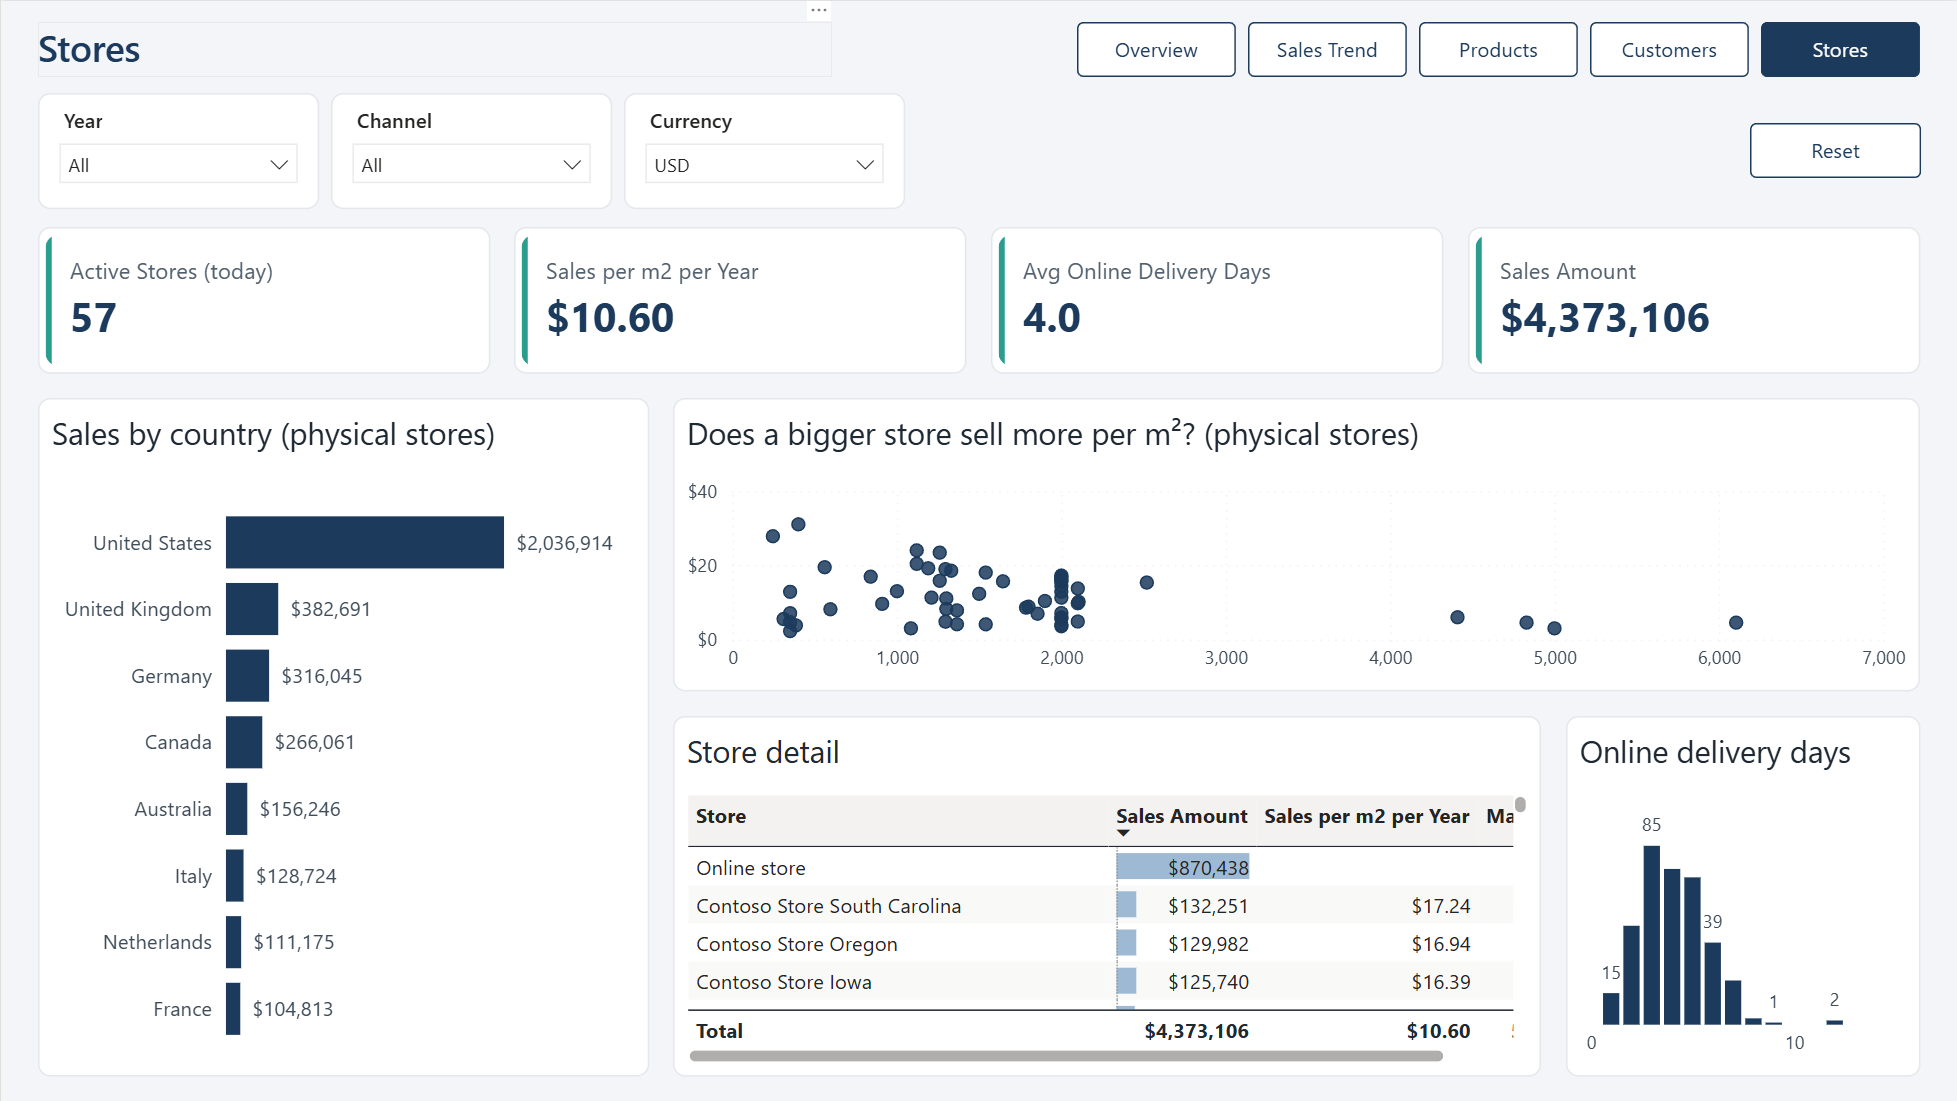

What the dashboard file says about the page in this screenshot:
{"tool":"powerbi","page":{"name":"Stores","canvas":[1280,720],"ordinal":4},"visuals":[{"type":"textbox","box":[24,14,520,36],"z":2000},{"type":"actionButton","box":[704,14,104,36],"z":3000},{"type":"actionButton","box":[816,14,104,36],"z":4000},{"type":"actionButton","box":[928,14,104,36],"z":5000},{"type":"actionButton","box":[1040,14,104,36],"z":6000},{"type":"actionButton","box":[1152,14,104,36],"z":7000},{"type":"slicer","fields":{"Values":["Date.Year"]},"box":[24,60,184,76],"z":8000},{"type":"actionButton","box":[1144.4,80,112,36],"z":9000},{"type":"slicer","fields":{"Values":["Sales.Channel"]},"box":[216,60,184,76],"z":10000},{"type":"slicer","fields":{"Values":["Currency.Currency"]},"box":[408,60,184,76],"z":11000},{"type":"cardVisual","fields":{"Data":["_Measures.Active Stores"]},"box":[24,148,296,96],"z":12000},{"type":"cardVisual","fields":{"Data":["_Measures.Sales per m2 per Year"]},"box":[336,148,296,96],"z":13000},{"type":"cardVisual","fields":{"Data":["_Measures.Avg Online Delivery Days"]},"box":[648,148,296,96],"z":14000},{"type":"cardVisual","fields":{"Data":["_Measures.Sales Amount"]},"box":[960,148,296,96],"z":15000},{"type":"clusteredBarChart","title":"Sales by country (physical stores)","fields":{"Category":["Store.CountryName"],"Y":["_Measures.Sales Amount"]},"box":[24,260,400,444],"z":16000},{"type":"scatterChart","title":"Does a bigger store sell more per m²? (physical stores)","fields":{"Category":["Store.Description"],"X":["Sum(Store.SquareMeters)"],"Y":["_Measures.Sales per m2 per Year"]},"box":[440,260,816,192],"z":17000},{"type":"tableEx","title":"Store detail","fields":{"Values":["Store.Description","_Measures.Sales Amount","_Measures.Sales per m2 per Year","_Measures.Margin %"]},"box":[440,468,568,236],"z":18000},{"type":"clusteredColumnChart","title":"Online delivery days","fields":{"Category":["Sales.DeliveryDays"],"Y":["_Measures.Orders"]},"box":[1024,468,232,236],"z":19000}]}

Visuals, with their boxes in screenshot pixels (x1, y1, x2, y2), scaled from the page's 1280x720 canvas onto the 1957x1101 screenshot:
textbox: region(37, 21, 832, 76)
actionButton: region(1076, 21, 1235, 76)
actionButton: region(1248, 21, 1407, 76)
actionButton: region(1419, 21, 1578, 76)
actionButton: region(1590, 21, 1749, 76)
actionButton: region(1761, 21, 1920, 76)
slicer - Date.Year: region(37, 92, 318, 208)
actionButton: region(1750, 122, 1921, 177)
slicer - Sales.Channel: region(330, 92, 612, 208)
slicer - Currency.Currency: region(624, 92, 905, 208)
cardVisual - _Measures.Active Stores: region(37, 226, 489, 373)
cardVisual - _Measures.Sales per m2 per Year: region(514, 226, 966, 373)
cardVisual - _Measures.Avg Online Delivery Days: region(991, 226, 1443, 373)
cardVisual - _Measures.Sales Amount: region(1468, 226, 1920, 373)
"Sales by country (physical stores)" clusteredBarChart: region(37, 398, 648, 1077)
"Does a bigger store sell more per m²? (physical stores)" scatterChart: region(673, 398, 1920, 691)
"Store detail" tableEx: region(673, 716, 1541, 1077)
"Online delivery days" clusteredColumnChart: region(1566, 716, 1920, 1077)
